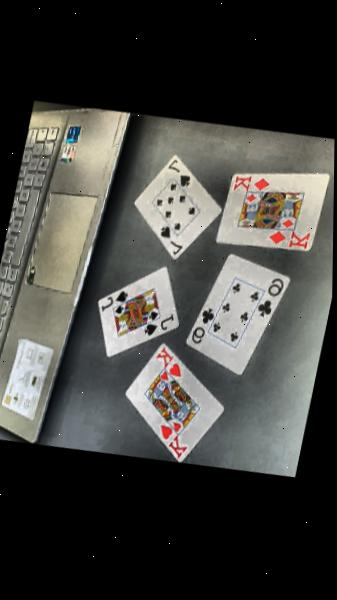6T: (255, 275, 285, 321), (188, 304, 216, 346)
7P: (153, 222, 186, 259), (162, 156, 195, 190)
JP: (142, 308, 175, 340), (99, 287, 128, 316)
KC: (151, 421, 191, 462), (151, 344, 186, 380)
KD: (265, 224, 311, 254), (230, 172, 270, 197)
